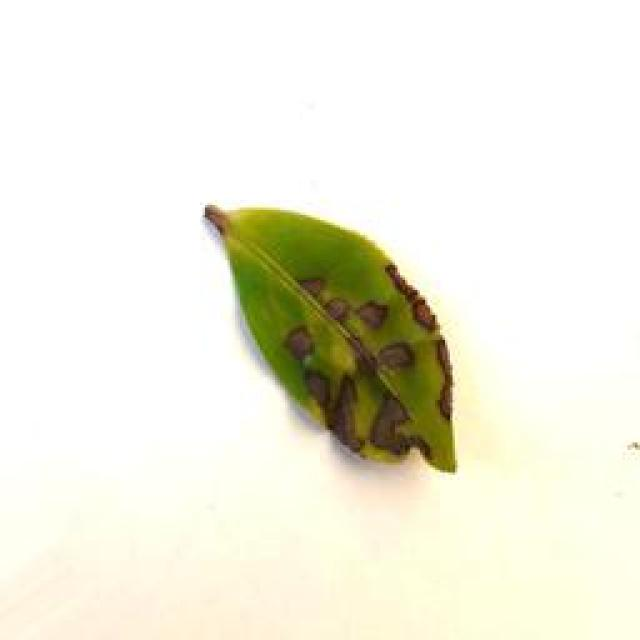Helopeltis: (207, 197, 468, 479)
